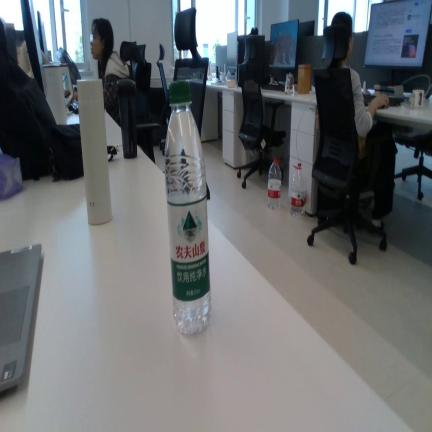bottle: (165, 80, 211, 335), (289, 161, 306, 217), (267, 158, 282, 209)
